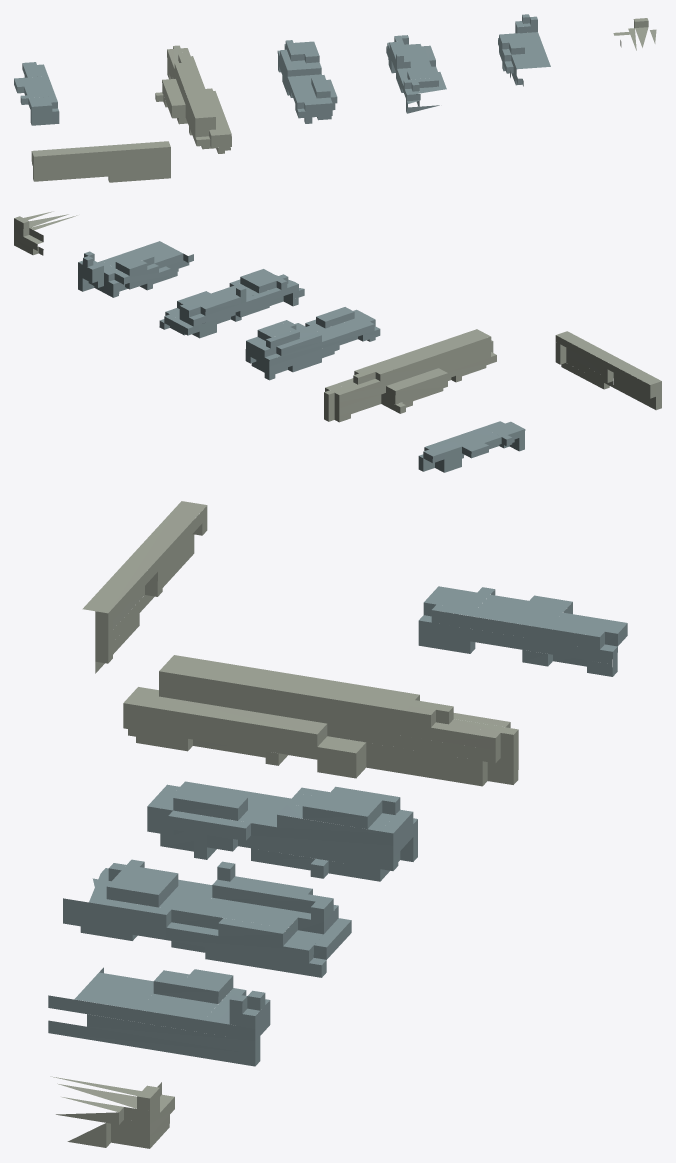
The picture shows the model from 3 angles, top to bottom: view 1: azimuth 30°, elevation 25°; view 2: azimuth 150°, elevation 25°; view 3: azimuth 270°, elevation 25°; orthographic projection. The views are drawn at different scales.
Parts seen in each view (by area): view 1: measured-industrial; view 2: measured-industrial; view 3: measured-industrial.
Boxes of the visible parts, x1=… form: measured-industrial: x1=14, y1=14, x2=656, y2=182; measured-industrial: x1=14, y1=211, x2=661, y2=472; measured-industrial: x1=48, y1=501, x2=627, y2=1148.
Size of the model in its own units: 152 by 8.07 by 62.7.
